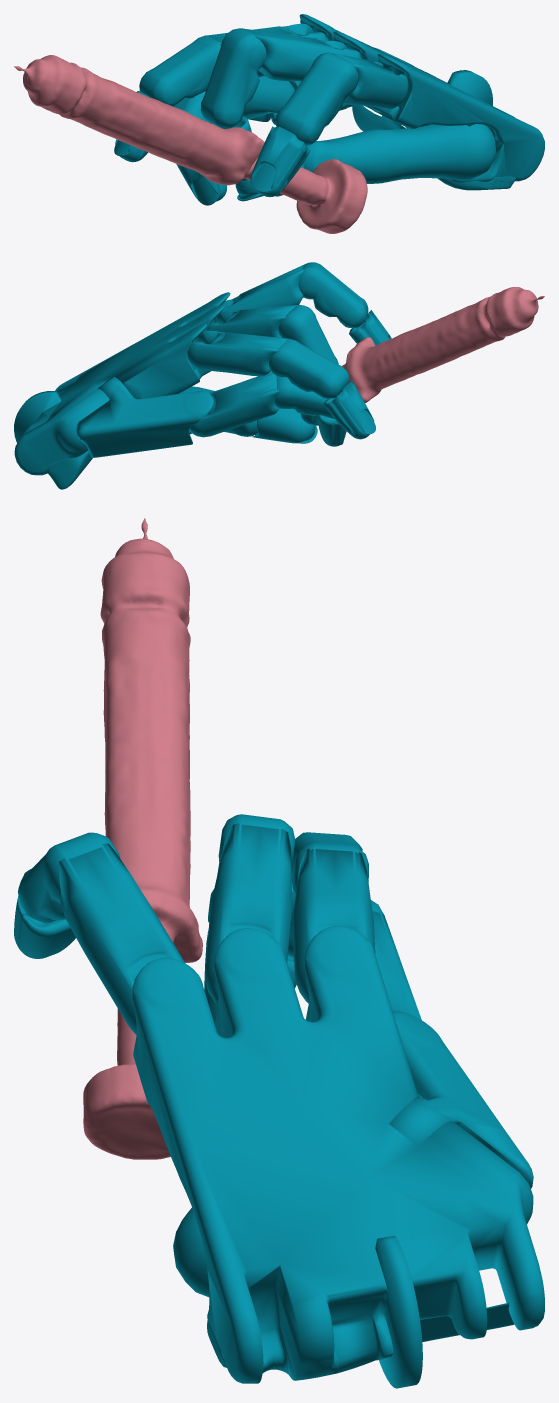
3 views of the same model, one above another, from view 1: azimuth 30°, elevation 25°; view 2: azimuth 150°, elevation 25°; view 3: azimuth 270°, elevation 25° (orthographic). The views are drawn at different scales.
Parts seen in each view (by area): view 1: world; view 2: world; view 3: world.
Boxes of the visible parts, <box> form: world: <box>14,14,544,233</box>; world: <box>14,262,544,489</box>; world: <box>14,518,544,1388</box>.
Bounding box in the file's own units: 0.2602 × 0.1225 × 0.1305.
